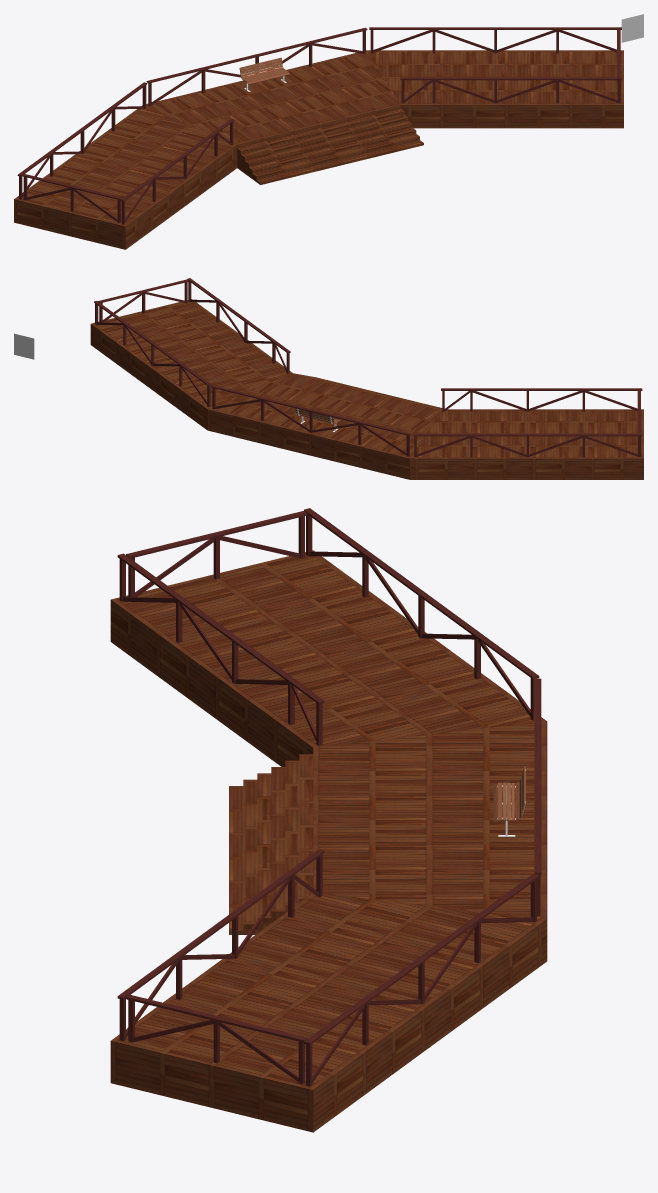
The model's file is river.FBX.
The picture shows the model from 3 angles, top to bottom: view 1: azimuth 30°, elevation 25°; view 2: azimuth 150°, elevation 25°; view 3: azimuth 270°, elevation 25°; orthographic projection. The views are drawn at different scales.
Visible parts, largest first — view 1: base_03, base_02, base_01, stair, handrail_005, handrail_000, handrail_006, handrail_001, handrail_002, handrail_003, Wall_seat, grass; view 2: base_02, base_01, base_03, handrail_001, handrail_006, handrail_002, handrail_000, handrail_005, handrail_004, grass, Wall_seat; view 3: base_03, base_02, base_01, stair, handrail_000, handrail_001, handrail_002, handrail_005, handrail_004, handrail_003, handrail_006, Wall_seat.
Boxes of the visible parts, x1,y1,x2,y2 form: base_03: (366,50,623,128); base_02: (14,105,237,249); base_01: (146,50,400,148); stair: (237,108,423,184); handrail_005: (400,77,621,103); handrail_000: (369,27,621,53); handrail_006: (146,27,367,106); handrail_001: (17,82,147,199); handrail_002: (120,118,234,224); handrail_003: (22,174,122,222); Wall_seat: (239,57,289,91); grass: (621,14,643,42); base_02: (410,409,643,479); base_01: (207,373,440,479); base_03: (90,299,292,430); handrail_001: (413,433,642,457); handrail_006: (211,385,411,456); handrail_002: (441,388,642,411); handrail_000: (94,301,211,406); handrail_005: (187,278,290,373); handrail_004: (98,279,188,322); grass: (14,333,34,359); Wall_seat: (295,408,340,432); base_03: (110,893,547,1132); base_02: (110,550,546,766); base_01: (313,721,547,918); stair: (229,754,313,934); handrail_000: (304,874,539,1086); handrail_001: (304,508,539,720); handrail_002: (117,553,324,745); handrail_005: (117,849,324,1040); handrail_004: (126,994,307,1083); handrail_003: (126,511,307,597); handrail_006: (534,678,541,915); Wall_seat: (493,766,525,836).
Size of what is drawn, in the model's own units: 2966 by 933 by 205.
